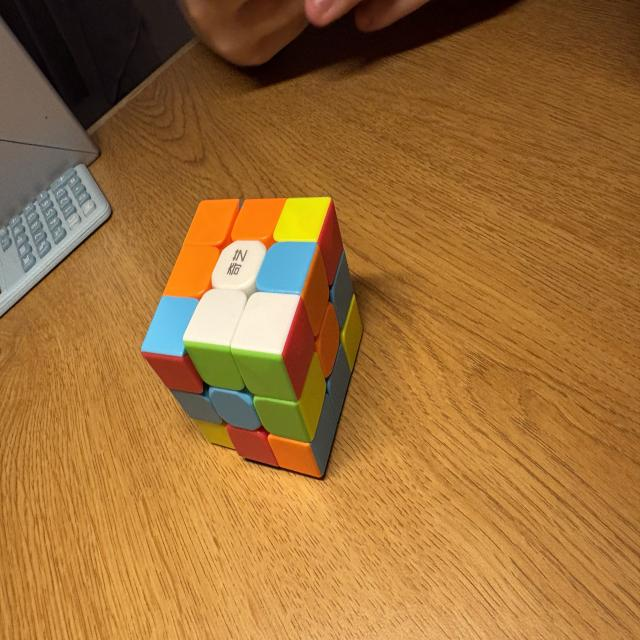Rubiks Cube: (140, 197, 365, 478)
